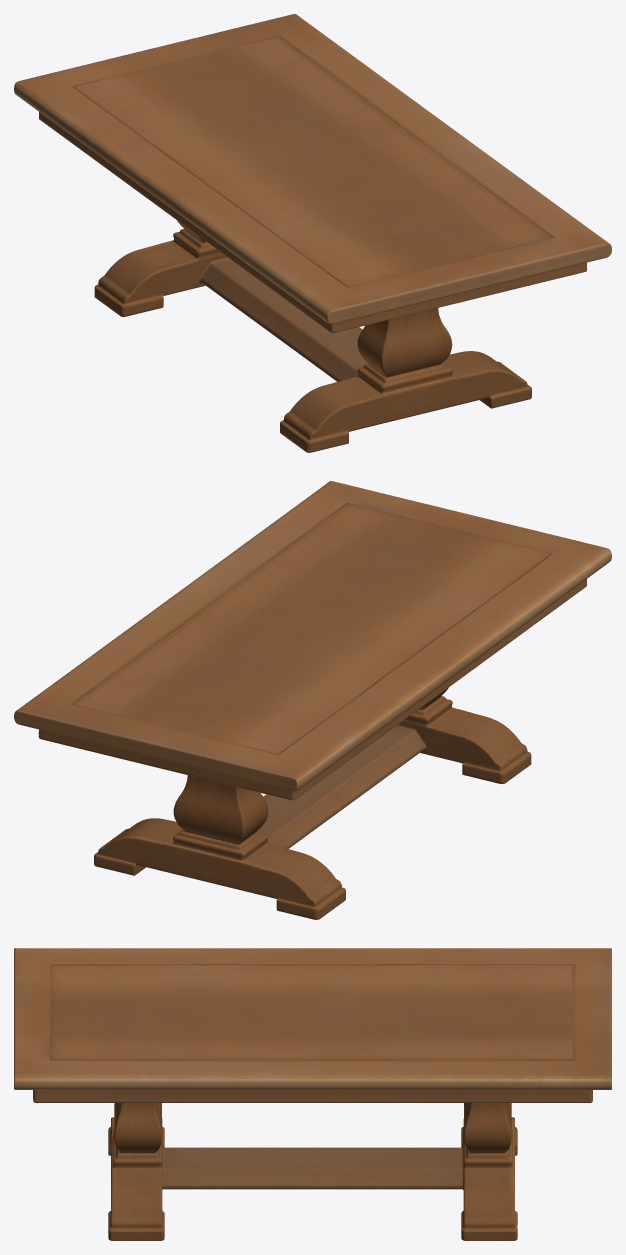
File: detailed_realistic_model_grandoaktable_11.glb
3 views of the same model, one above another, from view 1: azimuth 30°, elevation 25°; view 2: azimuth 150°, elevation 25°; view 3: azimuth 270°, elevation 25° (orthographic). The views are drawn at different scales.
Visible parts, largest first — view 1: tripo_node_9e2566c9-7863-446f-a697-efe1c1fc9e5a; view 2: tripo_node_9e2566c9-7863-446f-a697-efe1c1fc9e5a; view 3: tripo_node_9e2566c9-7863-446f-a697-efe1c1fc9e5a.
Boxes of the visible parts, left/top/right/bottom form: tripo_node_9e2566c9-7863-446f-a697-efe1c1fc9e5a: left=14, top=14, right=611, bottom=452; tripo_node_9e2566c9-7863-446f-a697-efe1c1fc9e5a: left=14, top=481, right=611, bottom=919; tripo_node_9e2566c9-7863-446f-a697-efe1c1fc9e5a: left=14, top=948, right=611, bottom=1240.
Size of the model in its own units: 0.5229 by 0.3262 by 1.
1 material, 1 textured.
